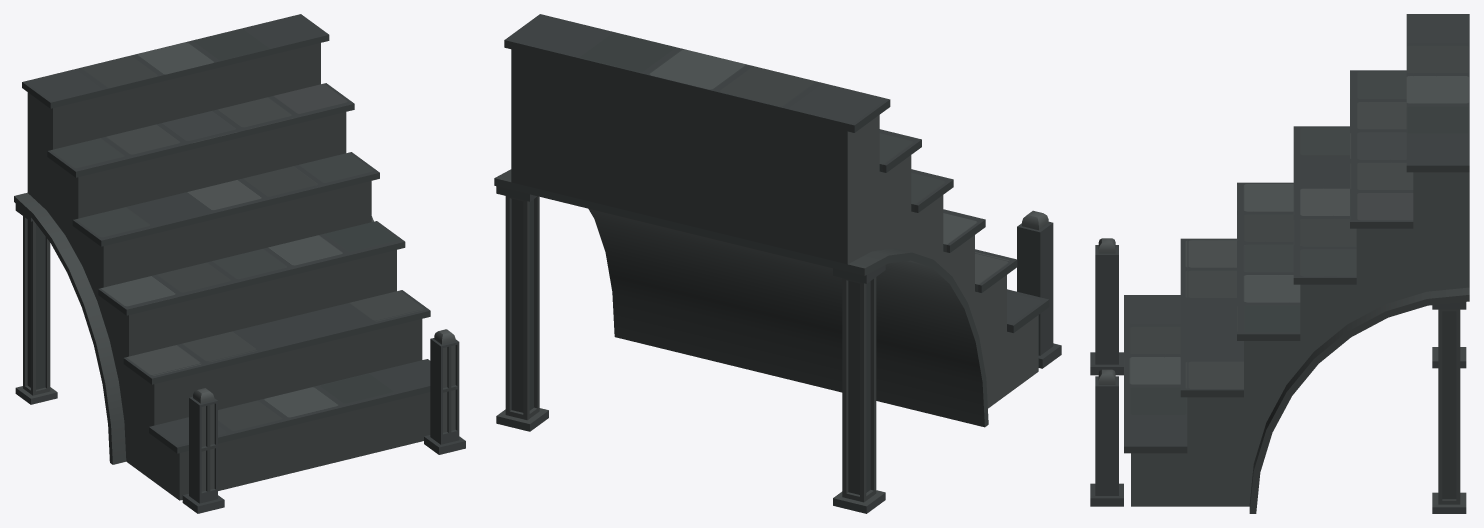
Rendered from Stairs_Up_2x2.fbx.
3 renders of one model, left to right at view 1: azimuth 30°, elevation 25°; view 2: azimuth 150°, elevation 25°; view 3: azimuth 270°, elevation 25°, orthographic. The views are drawn at different scales.
Visible parts, largest first — view 1: Stairs_Up 2x2; view 2: Stairs_Up 2x2; view 3: Stairs_Up 2x2.
Boxes of the visible parts, bbox=[...] form: Stairs_Up 2x2: bbox=[14, 14, 465, 513]; Stairs_Up 2x2: bbox=[494, 14, 1061, 513]; Stairs_Up 2x2: bbox=[1090, 14, 1469, 513].
Size of the model in its own units: 200 by 200 by 200.
